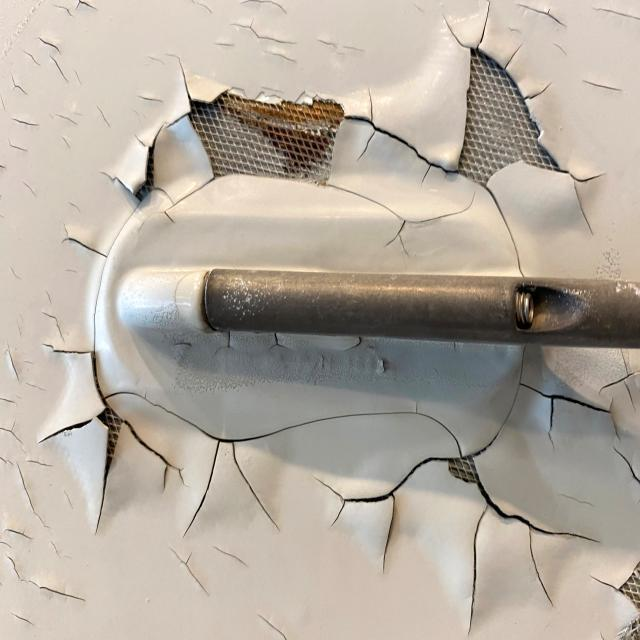Crack: (102, 387, 467, 543), (462, 476, 602, 640), (314, 450, 457, 580), (439, 0, 556, 147), (337, 83, 468, 192), (321, 176, 478, 261), (36, 406, 126, 540), (89, 205, 141, 354), (466, 341, 529, 463), (523, 382, 624, 453), (164, 50, 233, 133), (100, 119, 165, 207), (39, 337, 109, 411), (124, 416, 187, 494), (483, 183, 529, 279), (150, 169, 220, 231), (556, 159, 608, 239), (57, 219, 113, 264)
